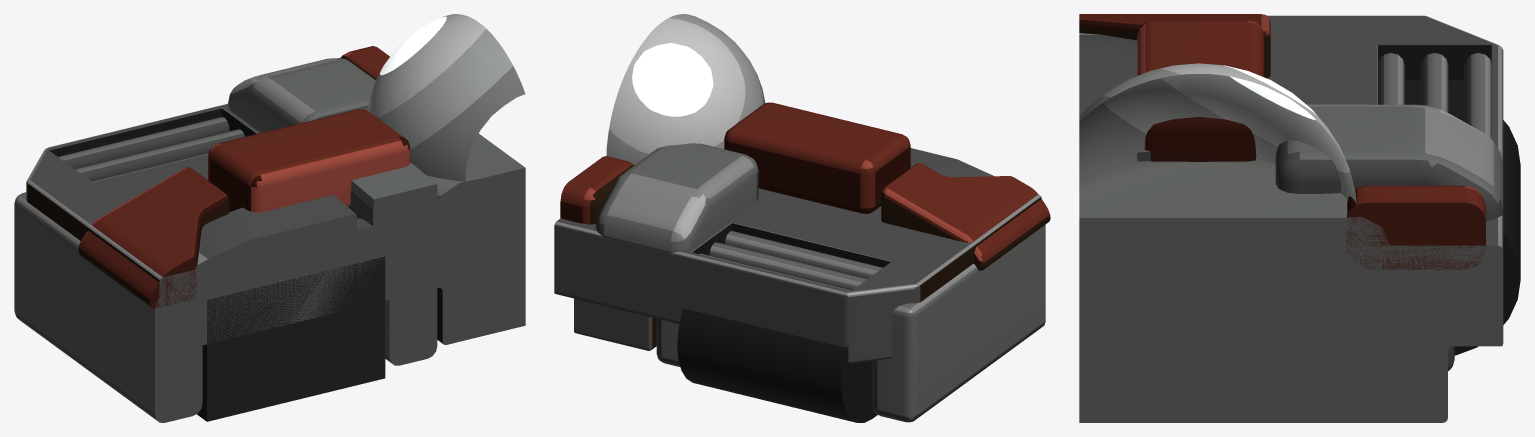
The model's file is track_carrier_tl_241.glb.
3 views of the same model, side by side, from view 1: azimuth 30°, elevation 25°; view 2: azimuth 150°, elevation 25°; view 3: azimuth 270°, elevation 25° (orthographic). The views are drawn at different scales.
Visible parts, largest first — view 1: track_carrier_tl_241; view 2: track_carrier_tl_241; view 3: track_carrier_tl_241.
Boxes of the visible parts, box(x1,y1,x2,y2) form: track_carrier_tl_241: box(14, 14, 525, 422); track_carrier_tl_241: box(554, 14, 1050, 422); track_carrier_tl_241: box(1079, 14, 1520, 422).
Size of the model in its own units: 21.3 by 15.56 by 16.7.
